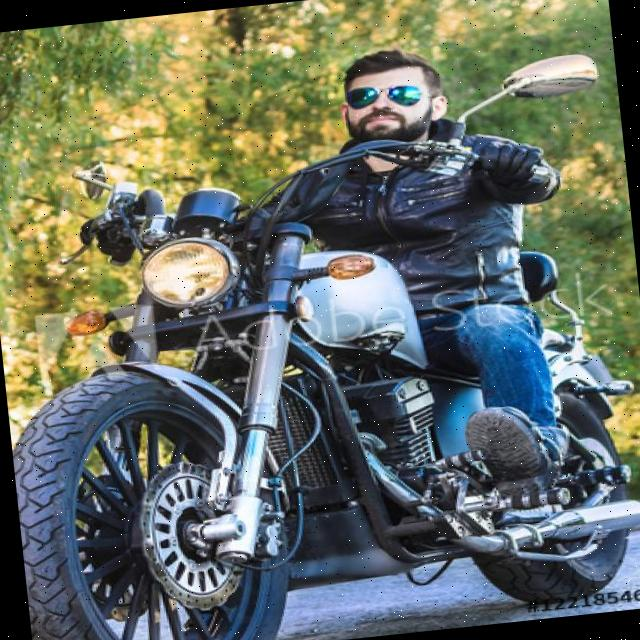No helmet: (336, 43, 456, 164)
